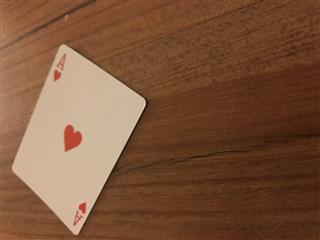AceOfHearts: (10, 43, 147, 235)
